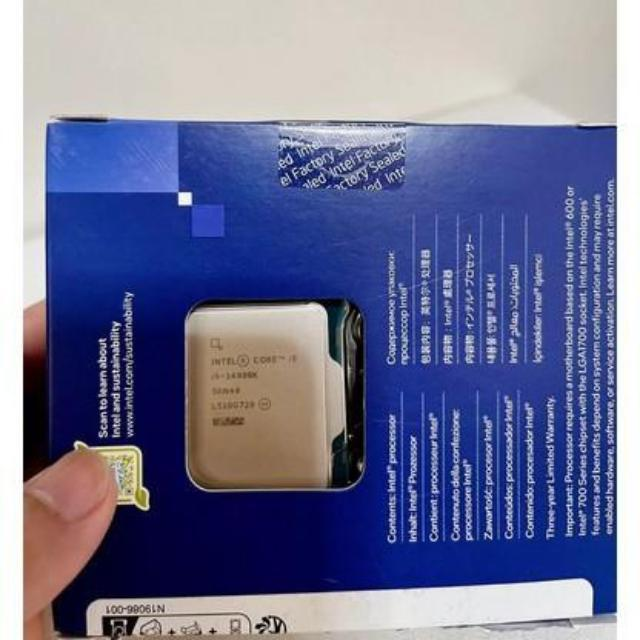CPU: (182, 302, 336, 493)
